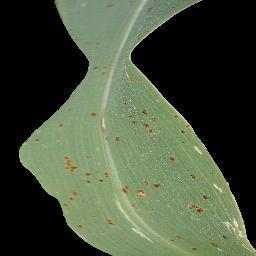Corn_Common_Rust: (125, 91, 226, 165), (5, 82, 76, 174), (187, 171, 256, 256), (78, 27, 147, 81), (117, 175, 163, 256), (84, 96, 121, 164), (141, 1, 186, 45), (57, 188, 90, 239), (67, 0, 122, 26), (84, 170, 114, 189), (168, 232, 195, 250), (102, 215, 125, 233)
